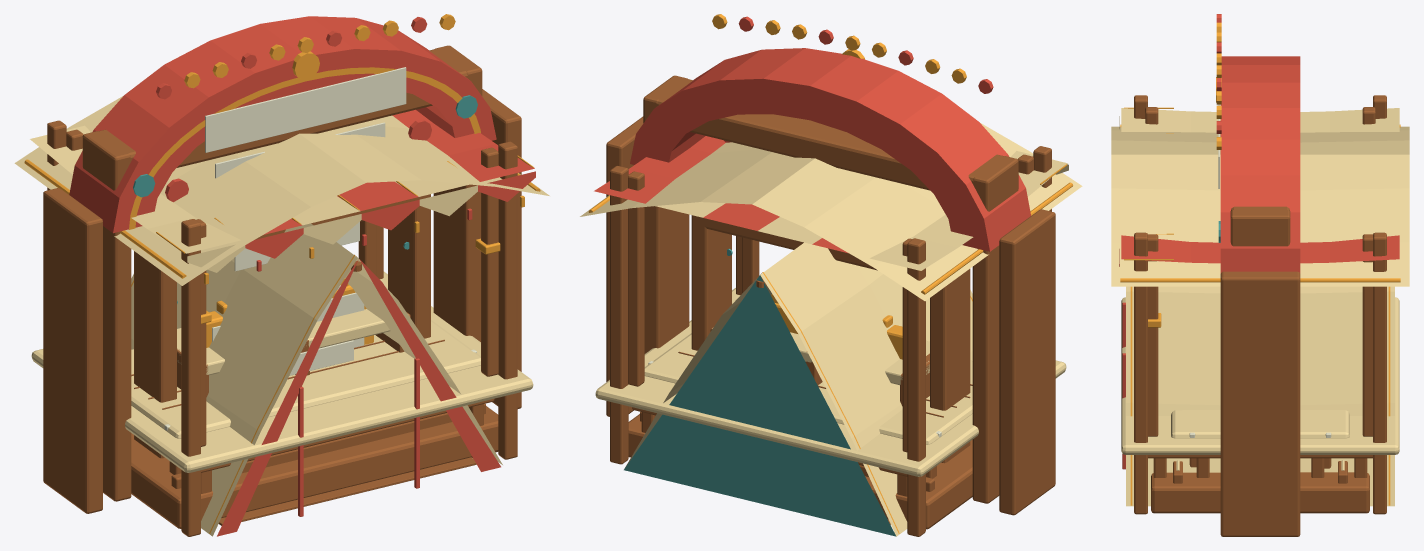
The model's file is learning-kit.glb.
3 renders of one model, left to right at view 1: azimuth 30°, elevation 25°; view 2: azimuth 150°, elevation 25°; view 3: azimuth 270°, elevation 25°, orthographic. The views are drawn at different scales.
Visible parts, largest first — view 1: i08Arch, i07Tent, i08Canopy_roof, i05MarketEntrance, i05Stall_awning, i05Stall_surface, i08Stage, i08Canopy, i07RouteGate, i04WorkTable_surface, i07Tent_entrance, i08Arch_display (+9 smaller); view 2: i07Tent, i08Arch, i05MarketEntrance, i08Canopy_roof, i07RouteGate, i08Canopy, i05Stall_awning, i05Stall_surface, i05Stall_posts, i04WorkTable_surface, i08Stage, i08Arch_cap (+3 smaller); view 3: i08Arch, i08Canopy_roof, i07Tent, i08Canopy, i05Stall_awning, i08Stage, i05Stall_surface, i05Stall_posts, i04WorkTable_surface, i05MarketEntrance, i05Stall, i08Arch_cap (+3 smaller).
Boxes of the visible parts, left/top/right/bottom form: i08Arch: left=43, top=16, right=521, bottom=513; i07Tent: left=131, top=223, right=502, bottom=536; i08Canopy_roof: left=14, top=96, right=549, bottom=285; i05MarketEntrance: left=82, top=45, right=482, bottom=501; i05Stall_awning: left=30, top=109, right=535, bottom=272; i05Stall_surface: left=31, top=271, right=533, bottom=472; i08Stage: left=131, top=406, right=498, bottom=528; i08Canopy: left=47, top=120, right=517, bottom=536; i07RouteGate: left=134, top=194, right=430, bottom=458; i04WorkTable_surface: left=131, top=288, right=480, bottom=438; i07Tent_entrance: left=217, top=259, right=500, bottom=536; i08Arch_display: left=205, top=67, right=406, bottom=152; i07Tent: left=624, top=242, right=972, bottom=536; i08Arch: left=606, top=48, right=1055, bottom=515; i05MarketEntrance: left=643, top=75, right=1018, bottom=503; i08Canopy_roof: left=580, top=123, right=1082, bottom=301; i07RouteGate: left=691, top=215, right=970, bottom=463; i08Canopy: left=610, top=146, right=1051, bottom=536; i05Stall_awning: left=594, top=136, right=1068, bottom=270; i05Stall_surface: left=595, top=288, right=1066, bottom=476; i05Stall_posts: left=628, top=154, right=1033, bottom=452; i04WorkTable_surface: left=644, top=303, right=972, bottom=444; i08Stage: left=628, top=414, right=972, bottom=529; i08Arch_cap: left=712, top=14, right=993, bottom=93; i08Arch: left=1220, top=56, right=1300, bottom=536; i08Canopy_roof: left=1111, top=124, right=1409, bottom=286; i07Tent: left=1126, top=286, right=1394, bottom=506; i08Canopy: left=1134, top=95, right=1386, bottom=514; i05Stall_awning: left=1119, top=107, right=1399, bottom=266; i08Stage: left=1151, top=472, right=1369, bottom=513; i05Stall_surface: left=1121, top=297, right=1399, bottom=454; i05Stall_posts: left=1145, top=107, right=1375, bottom=436; i04WorkTable_surface: left=1171, top=410, right=1349, bottom=438; i05MarketEntrance: left=1230, top=206, right=1290, bottom=246; i05Stall: left=1148, top=455, right=1372, bottom=477; i08Arch_cap: left=1216, top=14, right=1221, bottom=242.
Bounding box in the file's own units: 4.5 × 4.19 × 3.
